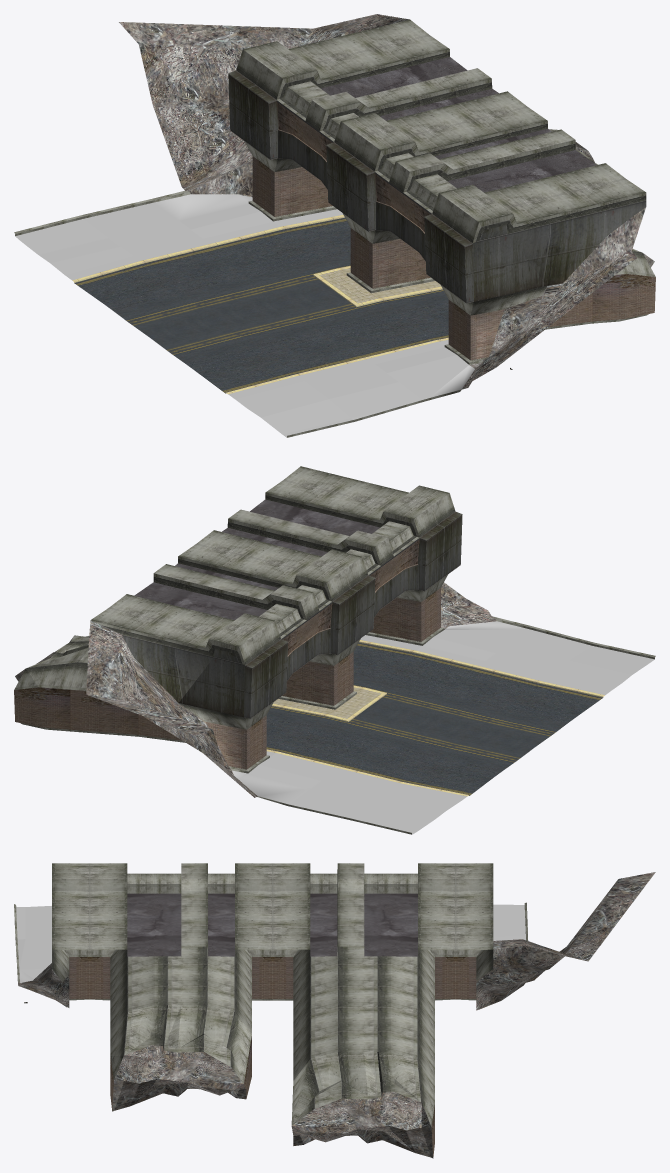
File: Road_Tunnel_01.fbx
3 renders of one model, top to bottom at view 1: azimuth 30°, elevation 25°; view 2: azimuth 150°, elevation 25°; view 3: azimuth 270°, elevation 25°, orthographic. The views are drawn at different scales.
Parts seen in each view (by area): view 1: Road_Tunnel_01; view 2: Road_Tunnel_01; view 3: Road_Tunnel_01.
Boxes of the visible parts, x1,y1,x2,y2 form: Road_Tunnel_01: (14,14,655,437); Road_Tunnel_01: (14,466,655,834); Road_Tunnel_01: (14,863,655,1158).
Bounding box in the file's own units: 4419 × 1477 × 5135.
